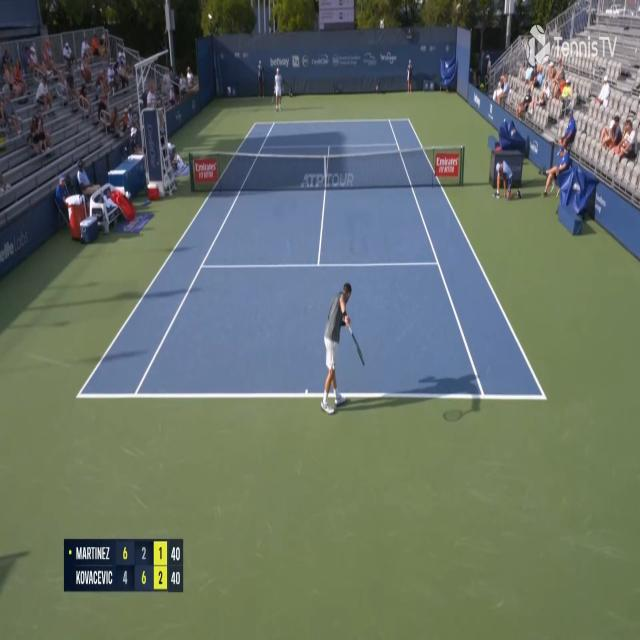tennis-player: (318, 278, 368, 417), (273, 68, 286, 113)
